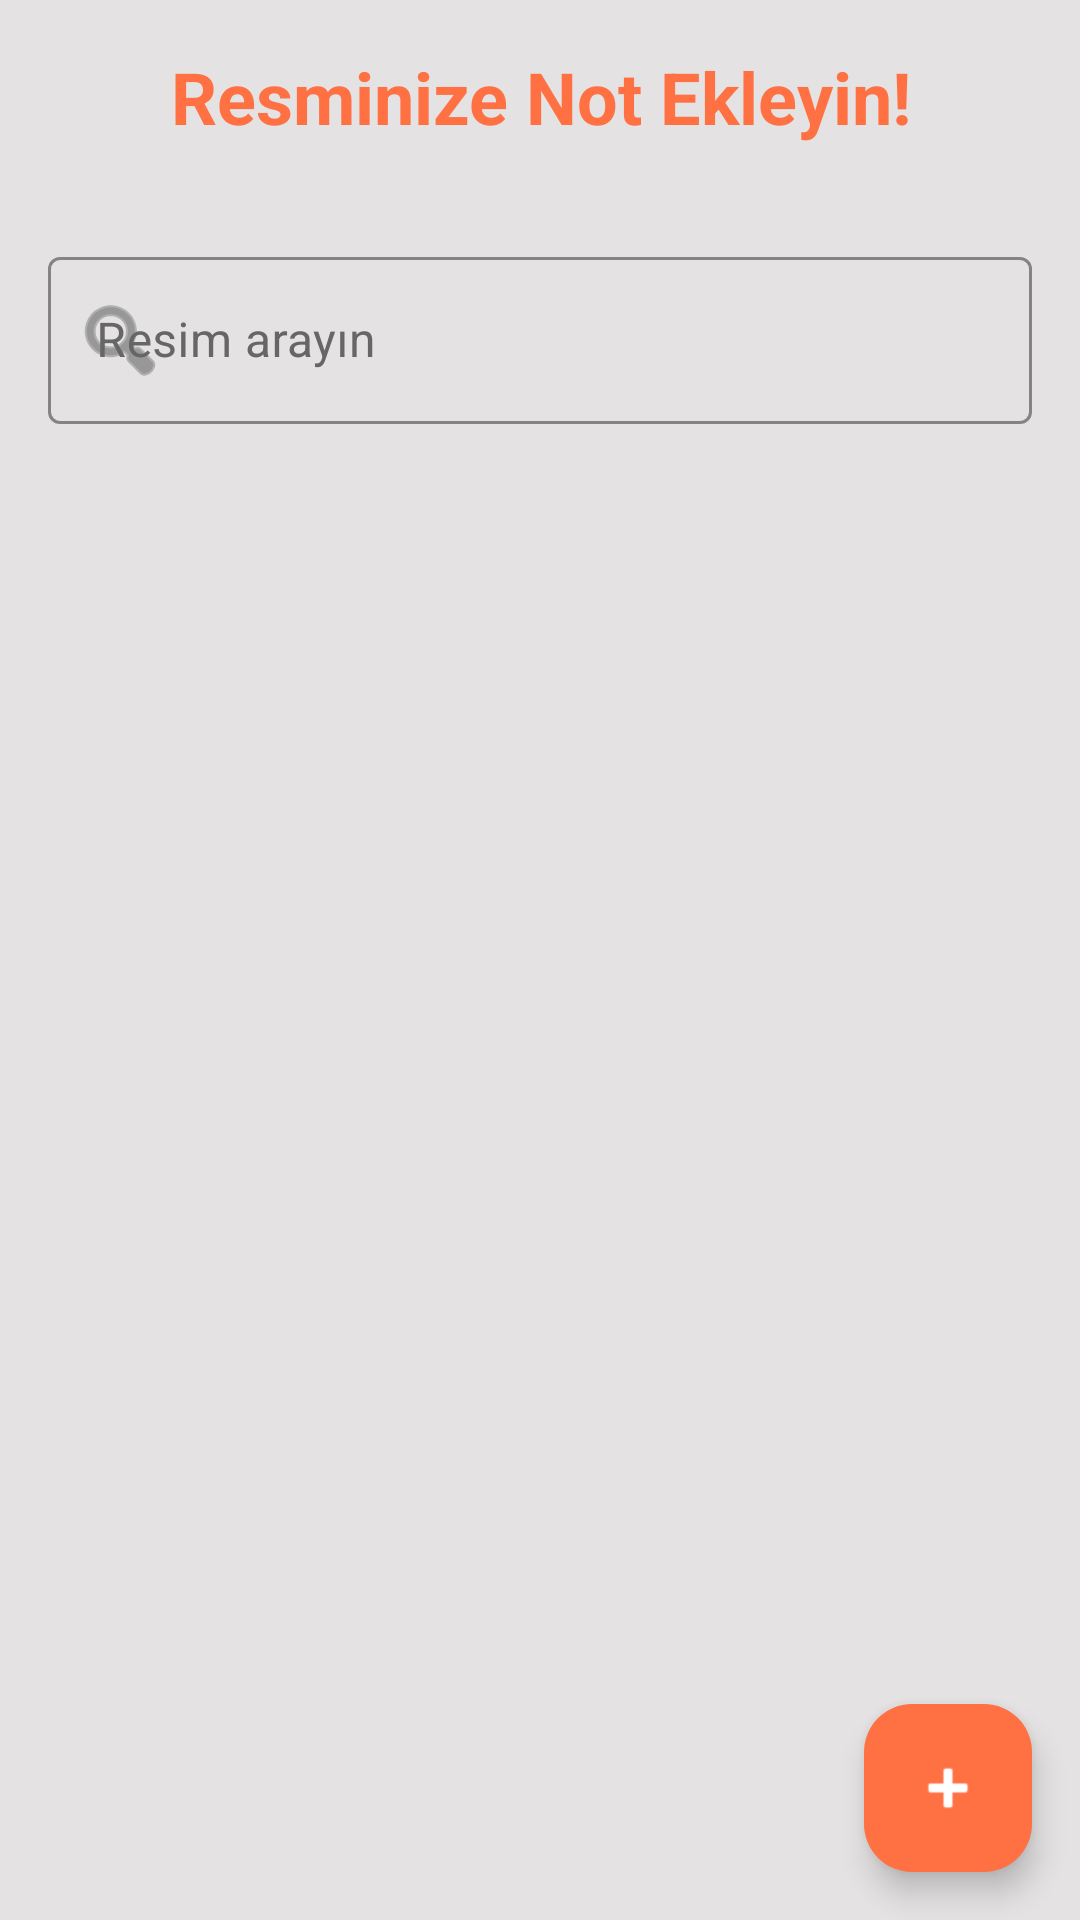

Named icons in this screenshot (1080x1920) and their centers, (x=x, y=y):
Not Ekle: (x=948, y=1788)
